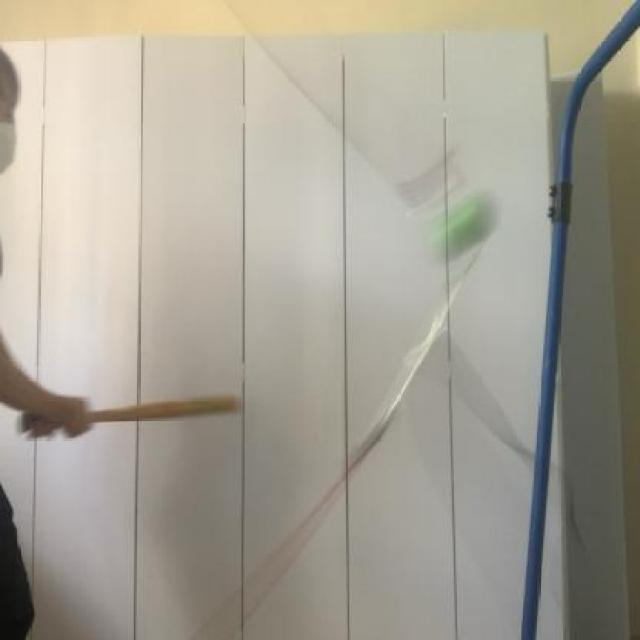baseball: (413, 170, 516, 282)
